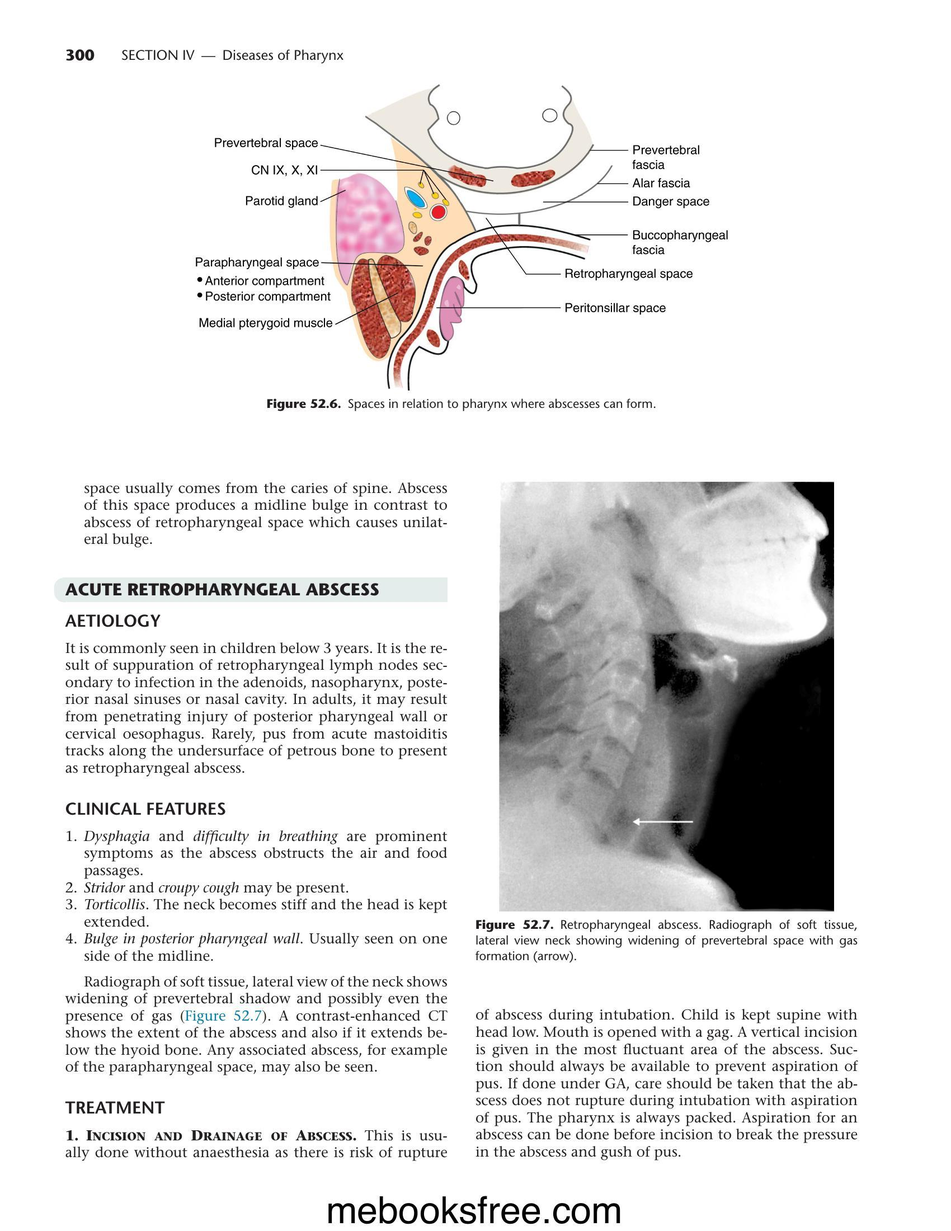caption: (474, 917, 860, 965), (265, 396, 658, 413)
header: (120, 48, 345, 64)
image: (178, 76, 753, 392), (498, 479, 836, 913)
list: (63, 828, 449, 963), (62, 1128, 448, 1163)
section-heading: (64, 581, 381, 597)
sub-section-heading: (63, 799, 227, 817), (63, 612, 162, 629), (64, 1099, 169, 1115)
text: (471, 1005, 860, 1162), (63, 640, 449, 778), (63, 972, 450, 1077), (82, 480, 450, 549)
